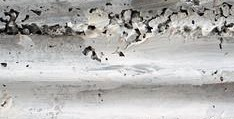Spalling: (1, 1, 234, 67)
